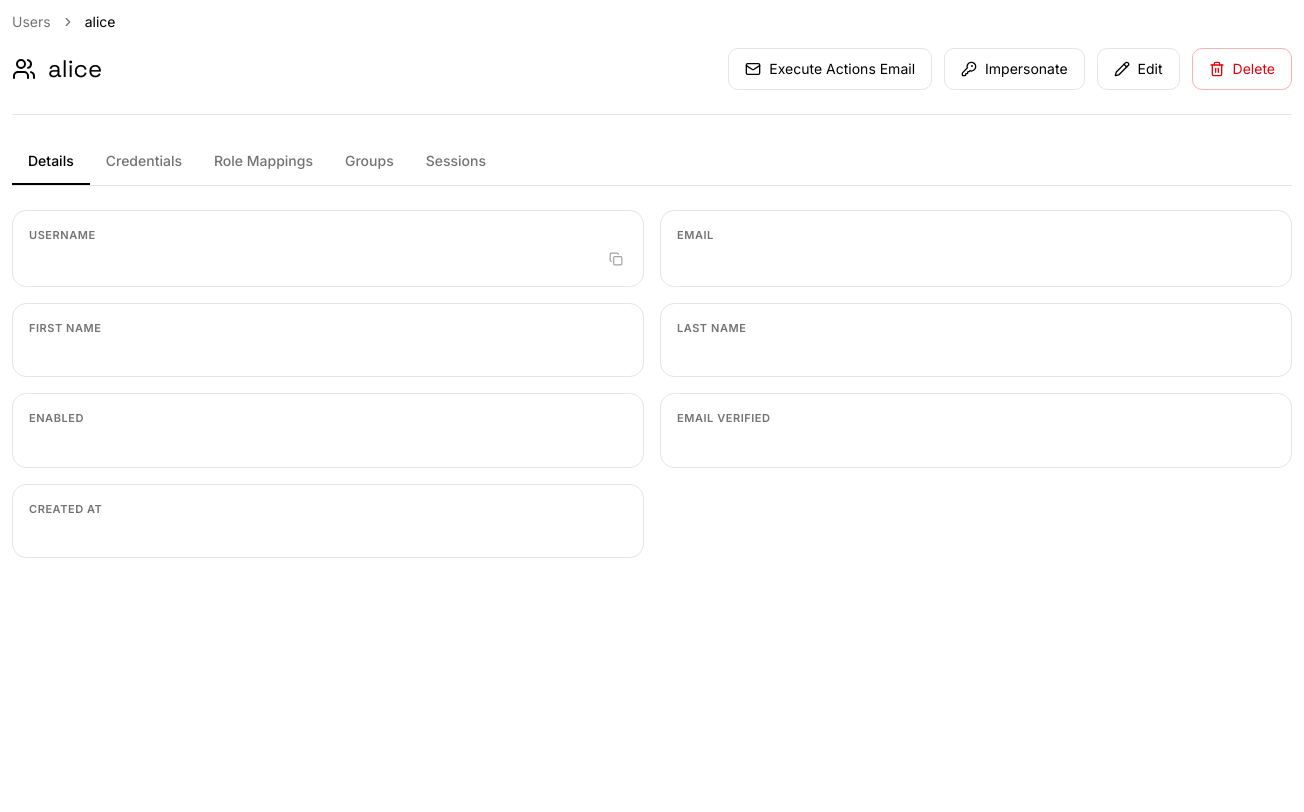
Test: UserDetailPage role mappings › shows assigned and available realm roles on the Role Mappings tab
The width and height of the screenshot is (1304, 812).
Click the button "Role Mappings". click: (264, 162)
box: [198,139,329,185]
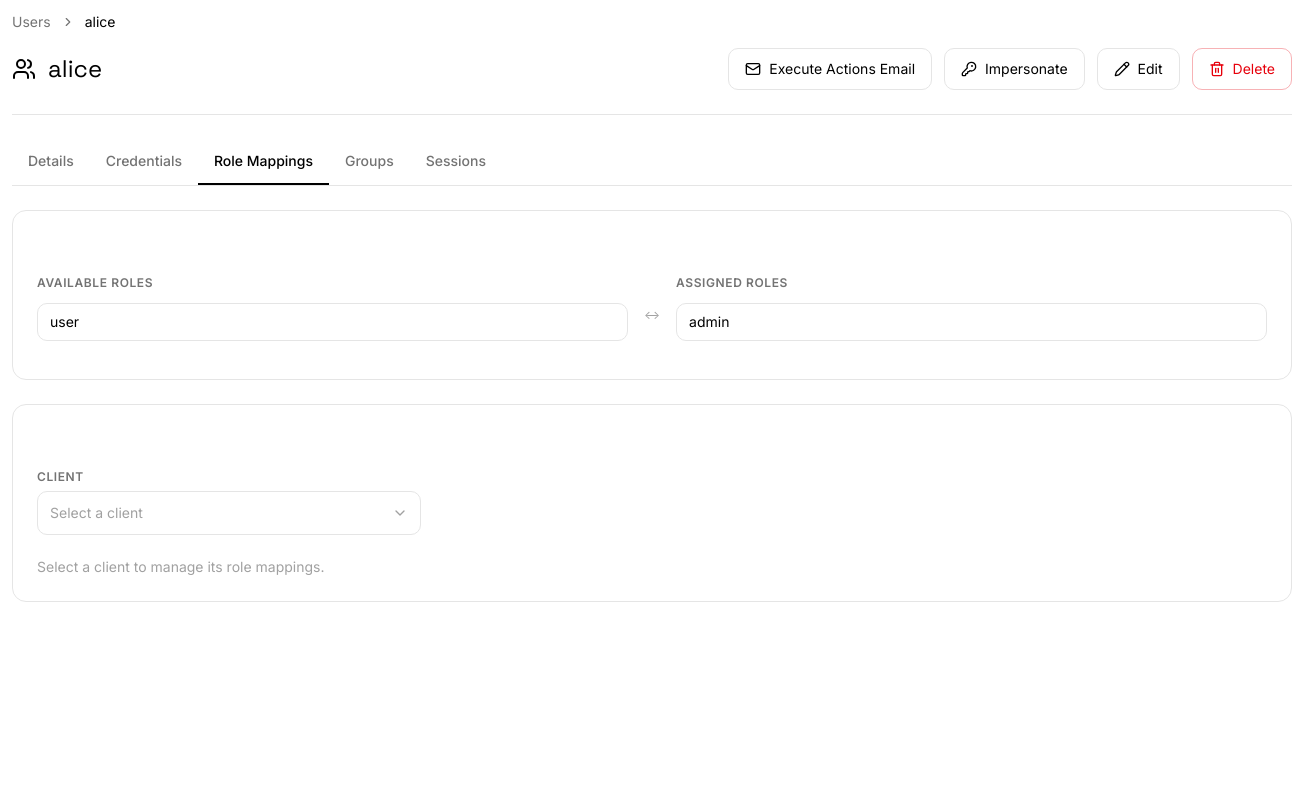
Expected: the text "user" is shown, [50,313,79,330]
Now the text "admin" is shown, box [689,313,729,330]
